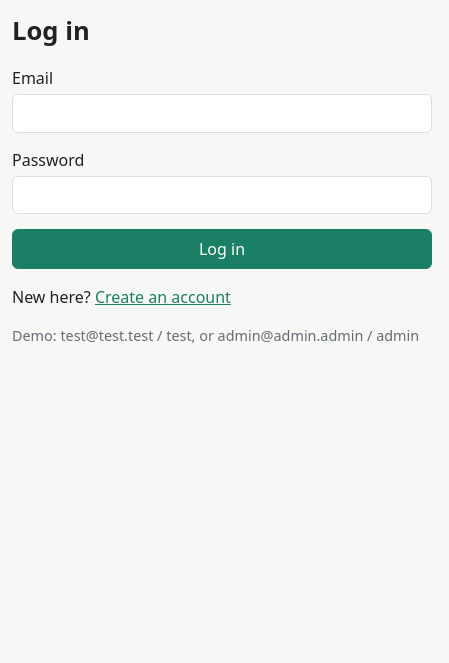
Test case: LoginPage › marks the fields rejected by validation when registering
Click the button "Create an account". click: x=163, y=297
box: [95,285,231,309]
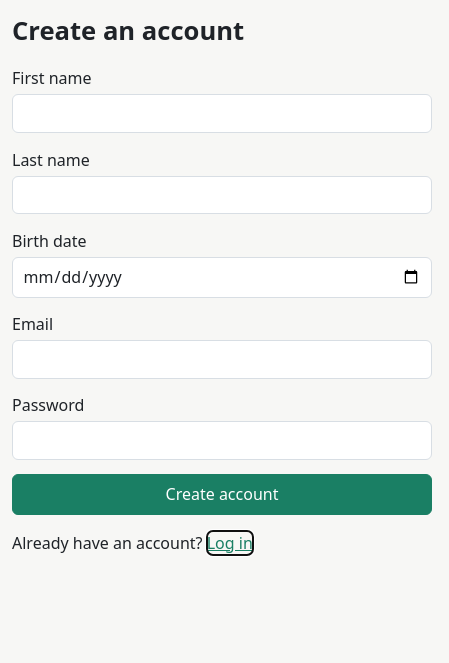
Type "Ana" into the field labelled "First name". click: x=222, y=114
box: [12,94,432,133]
Type "García" into the field labelled "Last name". click: x=222, y=195
box: [12,176,432,214]
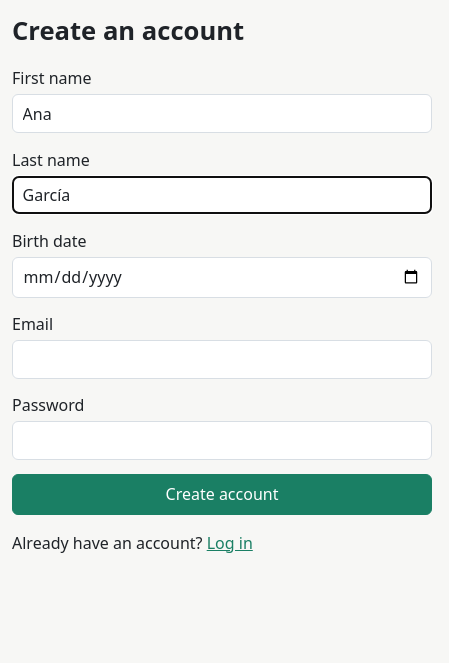
Type "1990-05-17" into the date field labelled "Birth date". click: x=222, y=277
box: [12,257,432,298]
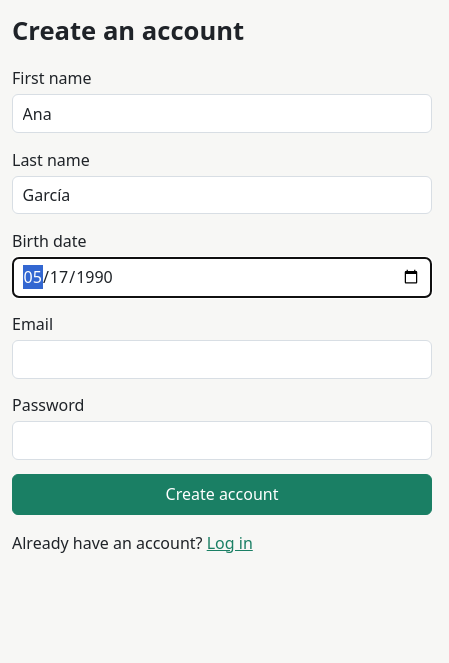
Type "ana@example.com" into the field labelled "Email". click: x=222, y=359
box: [12,340,432,379]
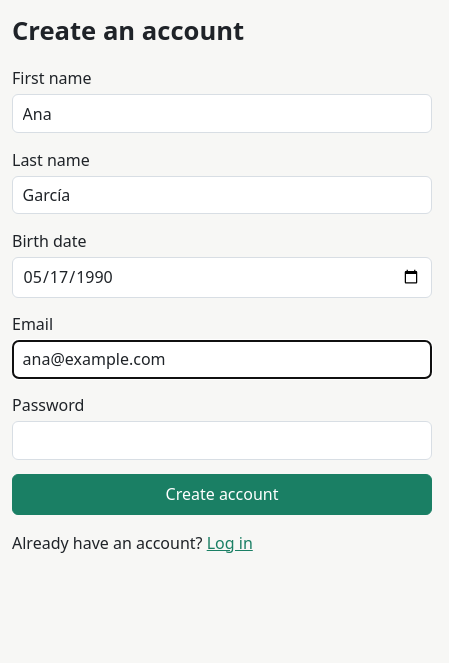
Type "short" into the password field labelled "Password". click: x=222, y=440
box: [12,421,432,460]
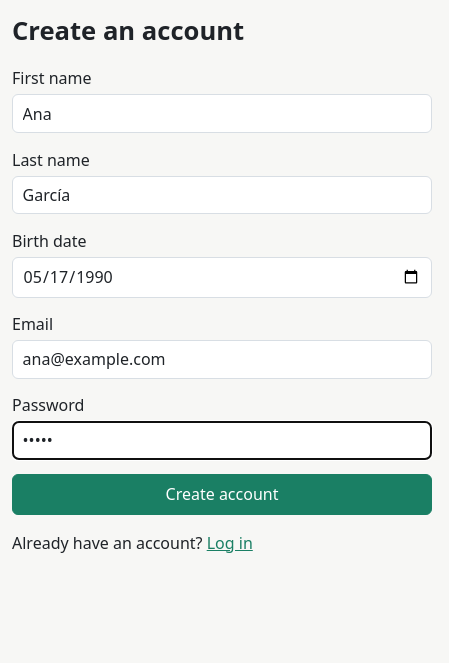
Click the button "Create account". click: x=222, y=494
box: [12,474,432,515]
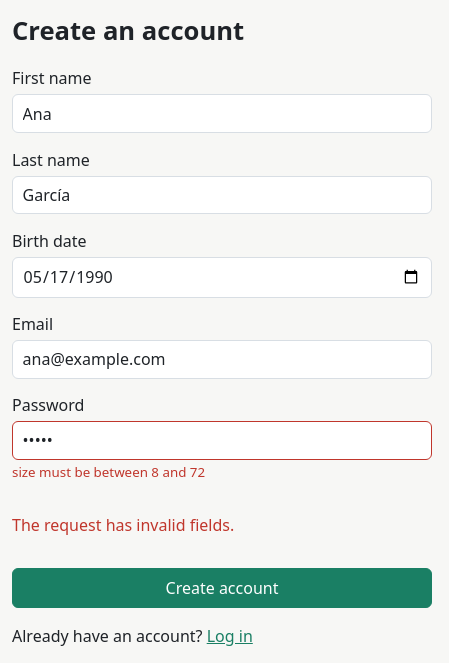
Result: the text "size must be between 8 and 72" is shown at [12,463,205,481]
